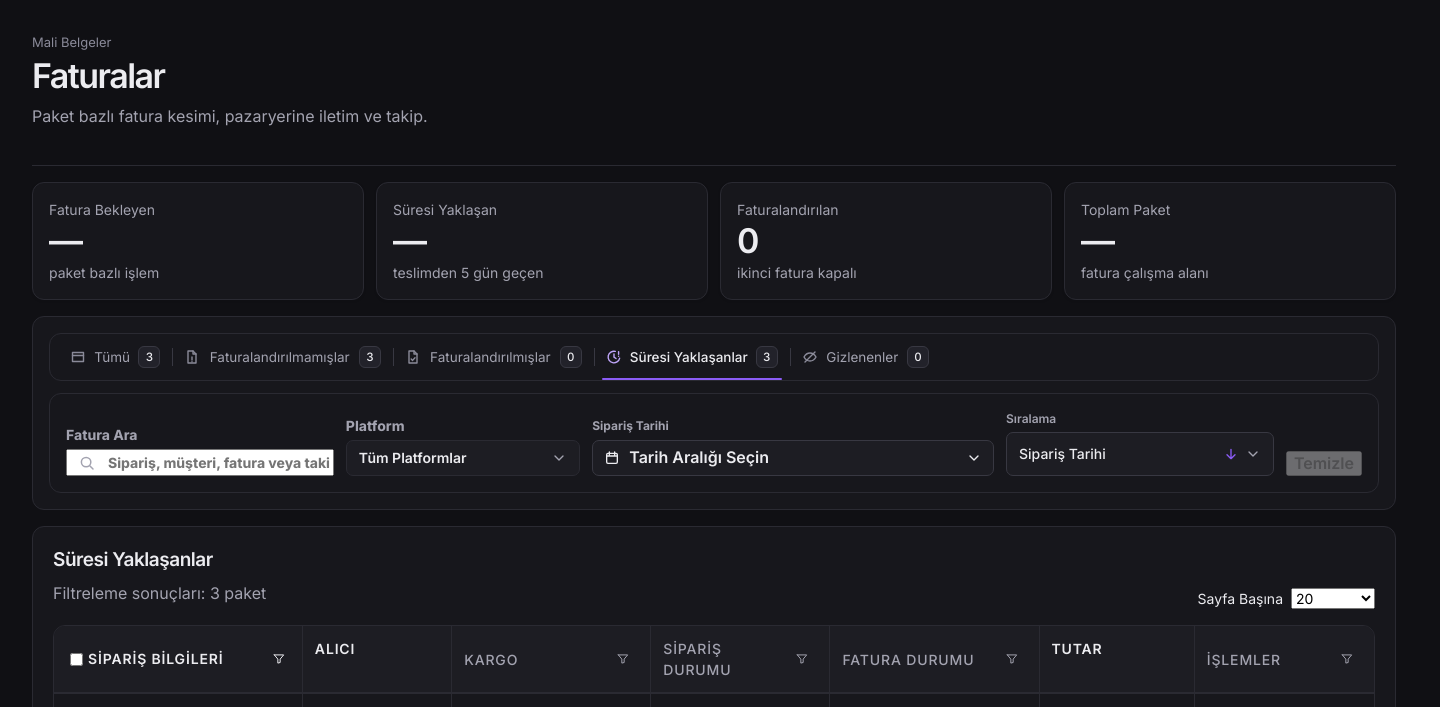
Test: InvoicesPage Shopify bulk invoice status › changes only Shopify invoice statuses when mixed platforms are selected
Click the checkbox named "Bu sayfadaki tüm siparişleri seç".
click(76, 660)  # box x1=70 y1=654 x2=83 y2=666
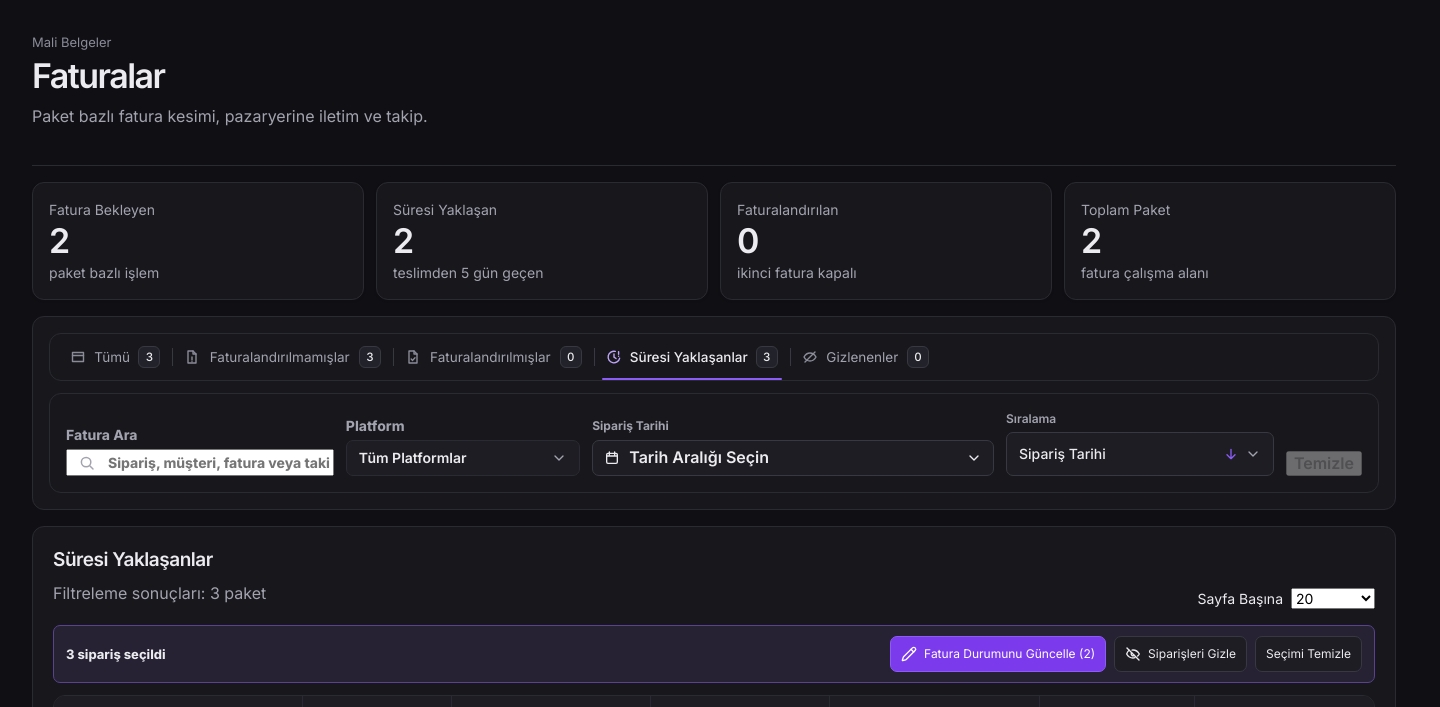
Click the button "Fatura Durumunu Güncelle (2)".
click(998, 654)  # box x1=890 y1=636 x2=1106 y2=672
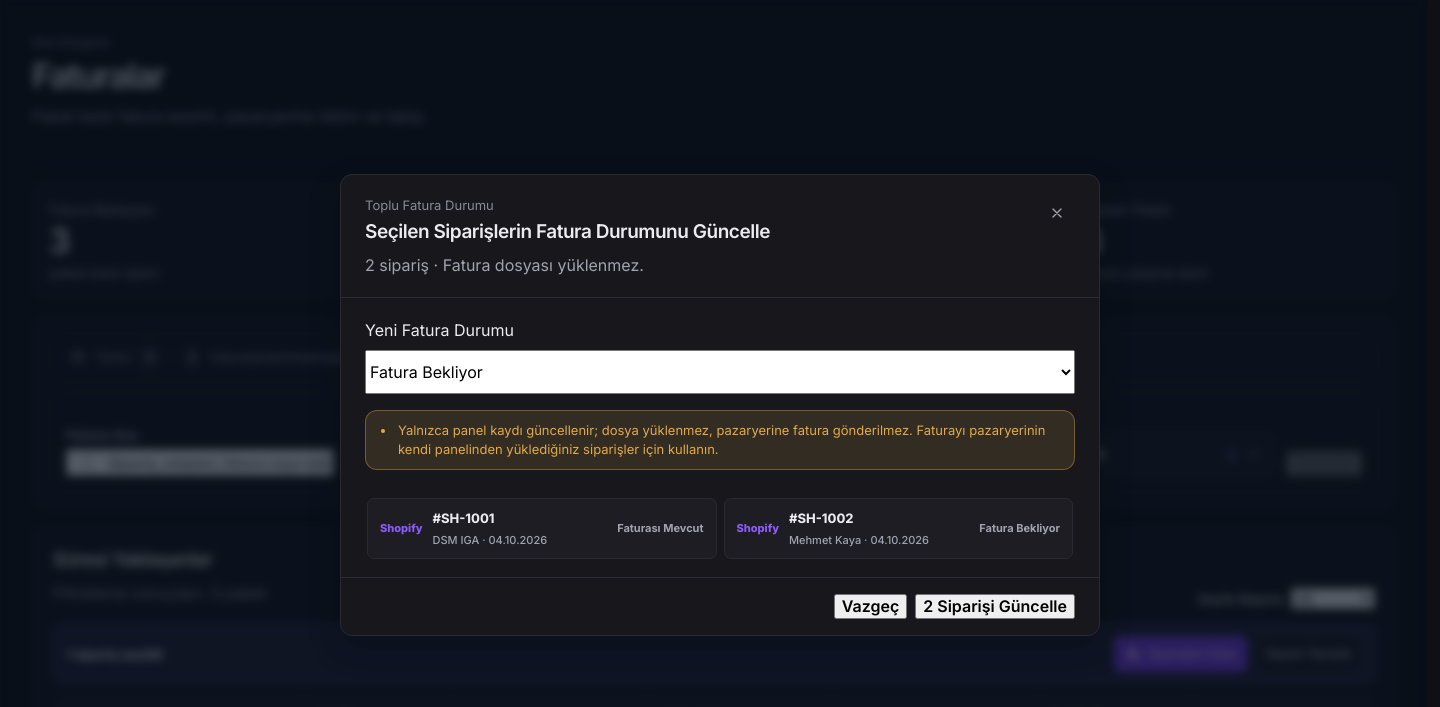
Check: the dialog shows "Fatura dosyası yüklenmez", box x1=429 y1=254 x2=644 y2=274
Select "Faturası Yüklendi" in the dropdown named "Yeni fatura durumu" at (720, 372), box x1=365 y1=350 x2=1075 y2=394
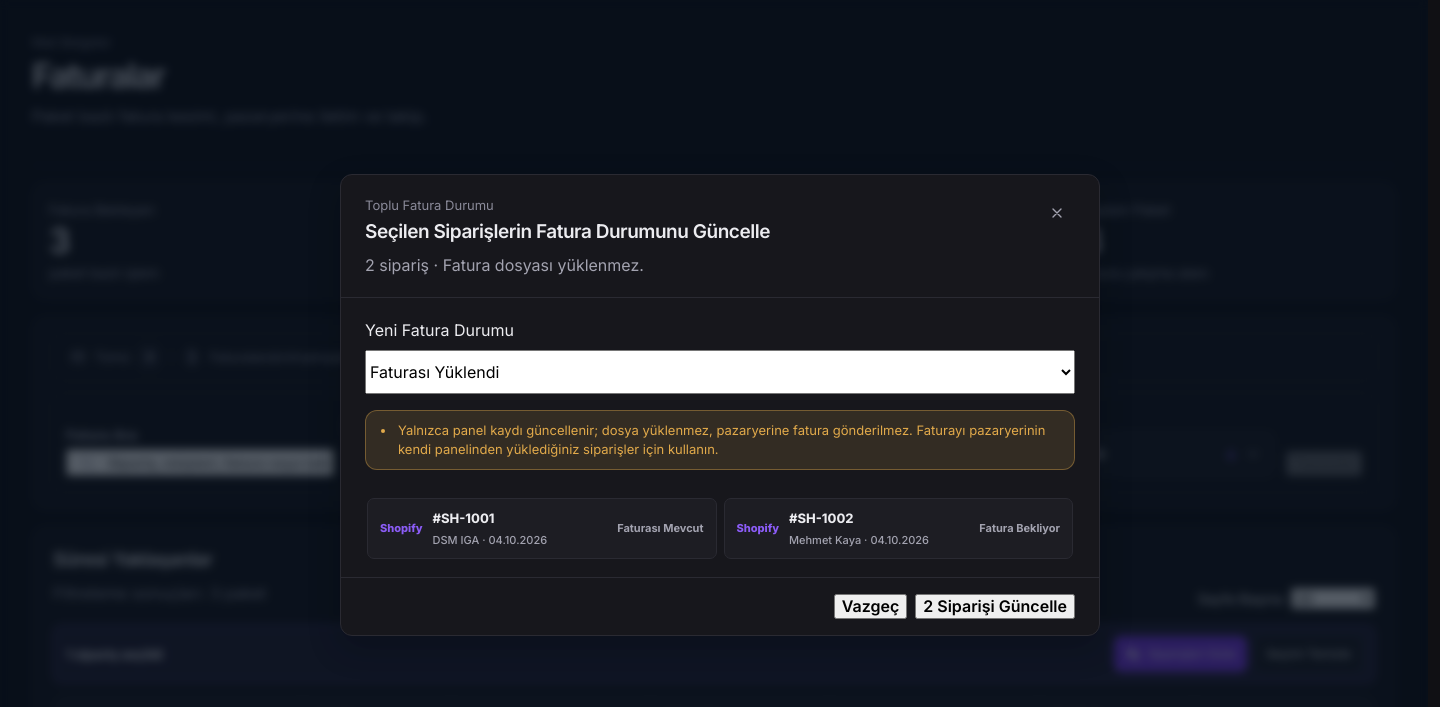
Click the button "2 Siparişi Güncelle".
click(995, 607)  # box x1=915 y1=594 x2=1075 y2=619
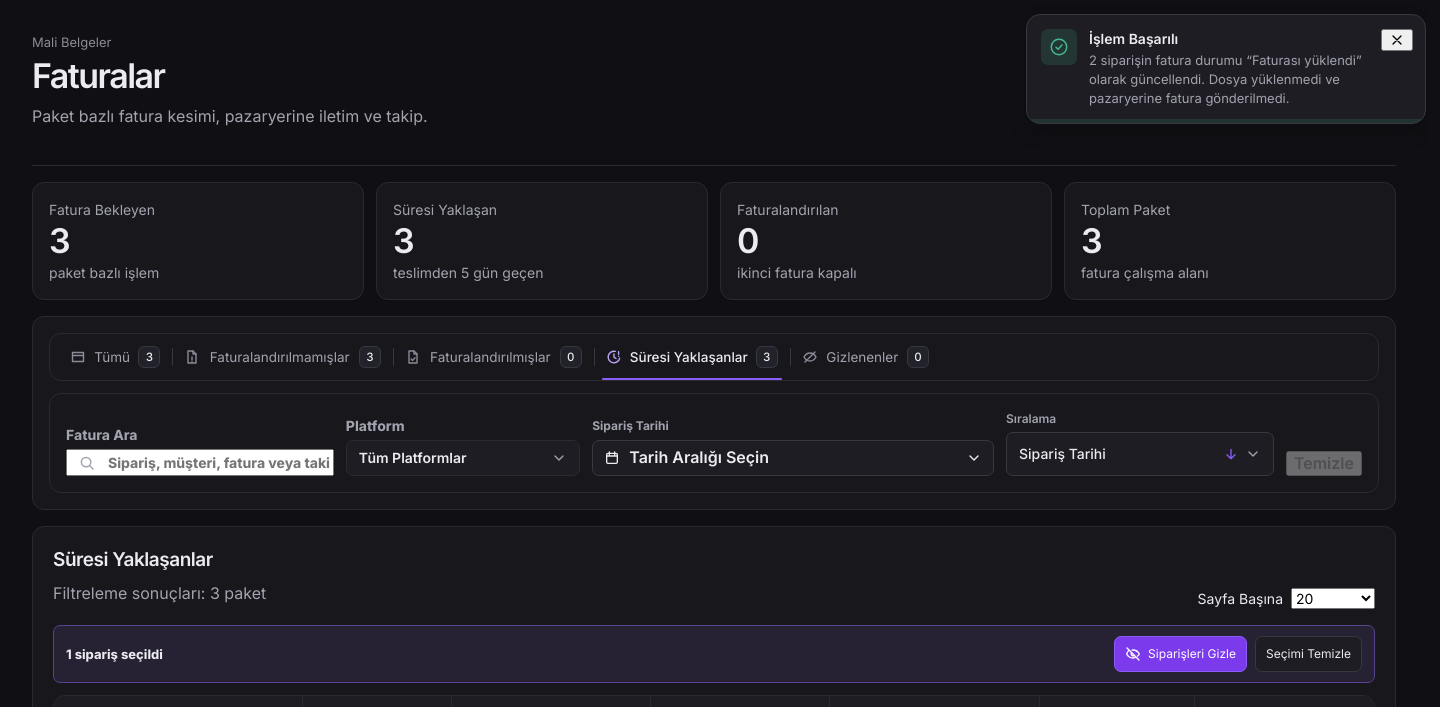
Check: the dialog is gone
Check: the text "2 siparişin fatura durumu" is shown, box x1=1089 y1=52 x2=1362 y2=106
